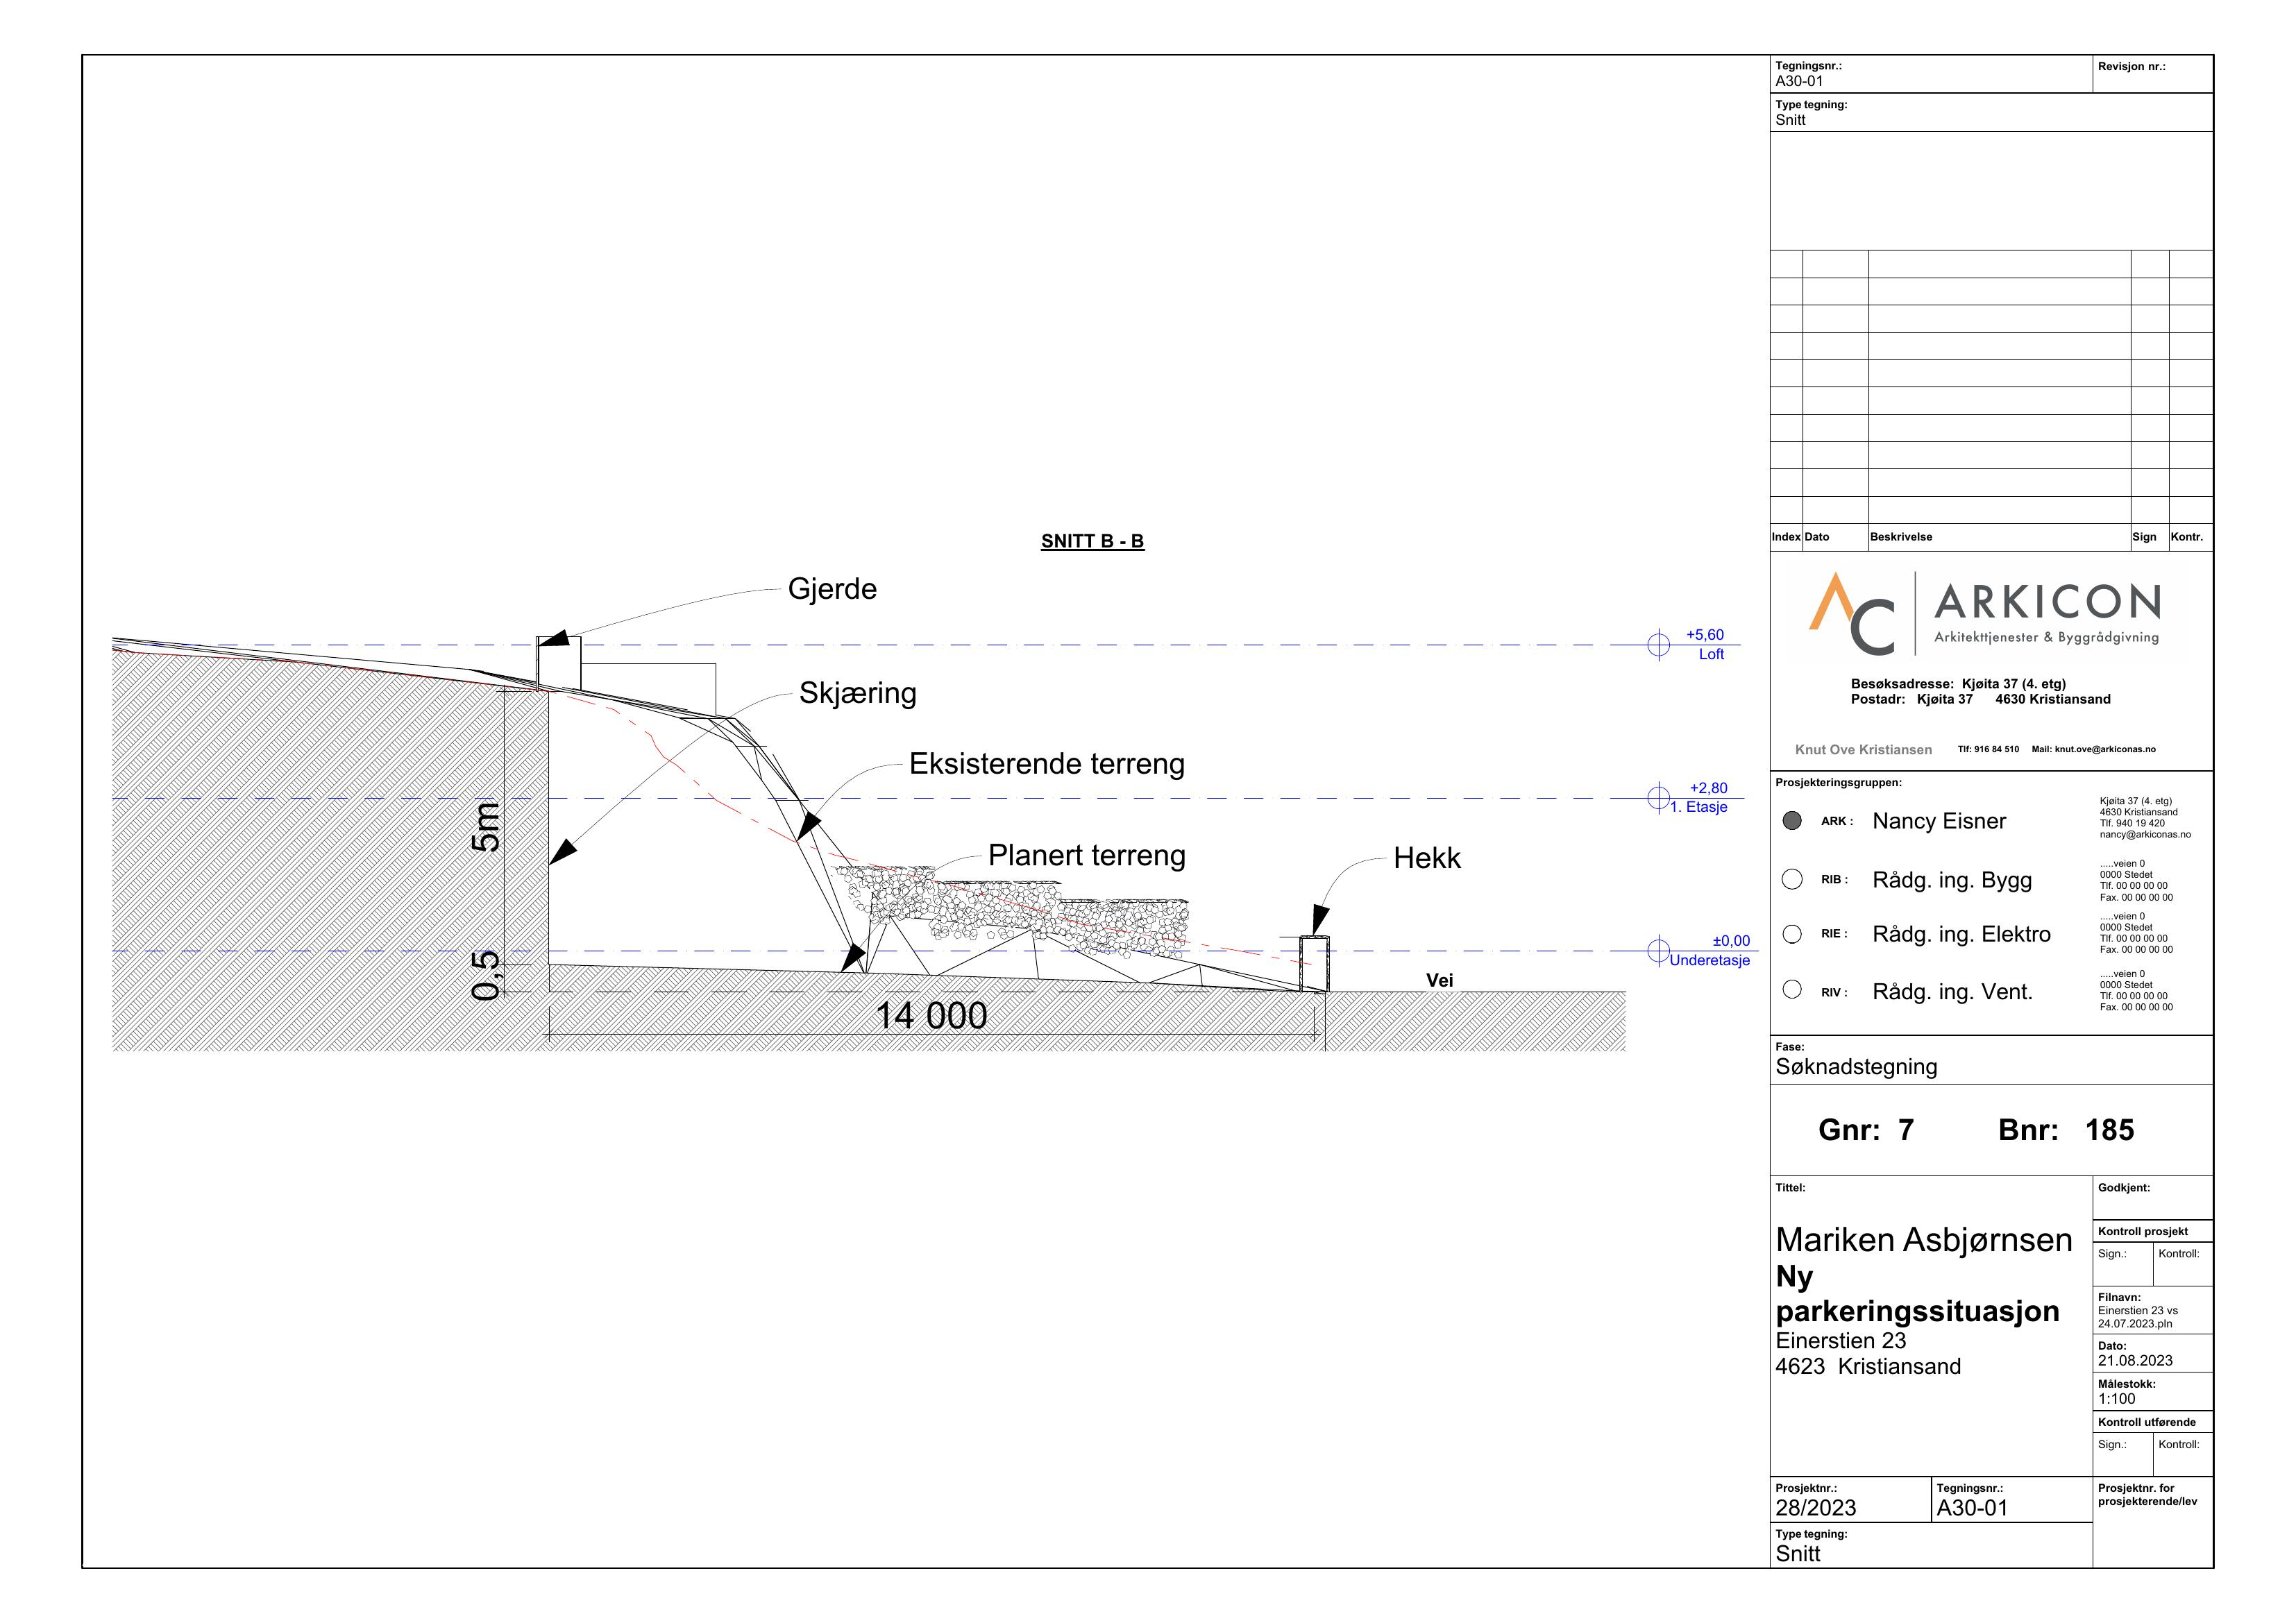snitt: (93, 516, 1753, 1064)
